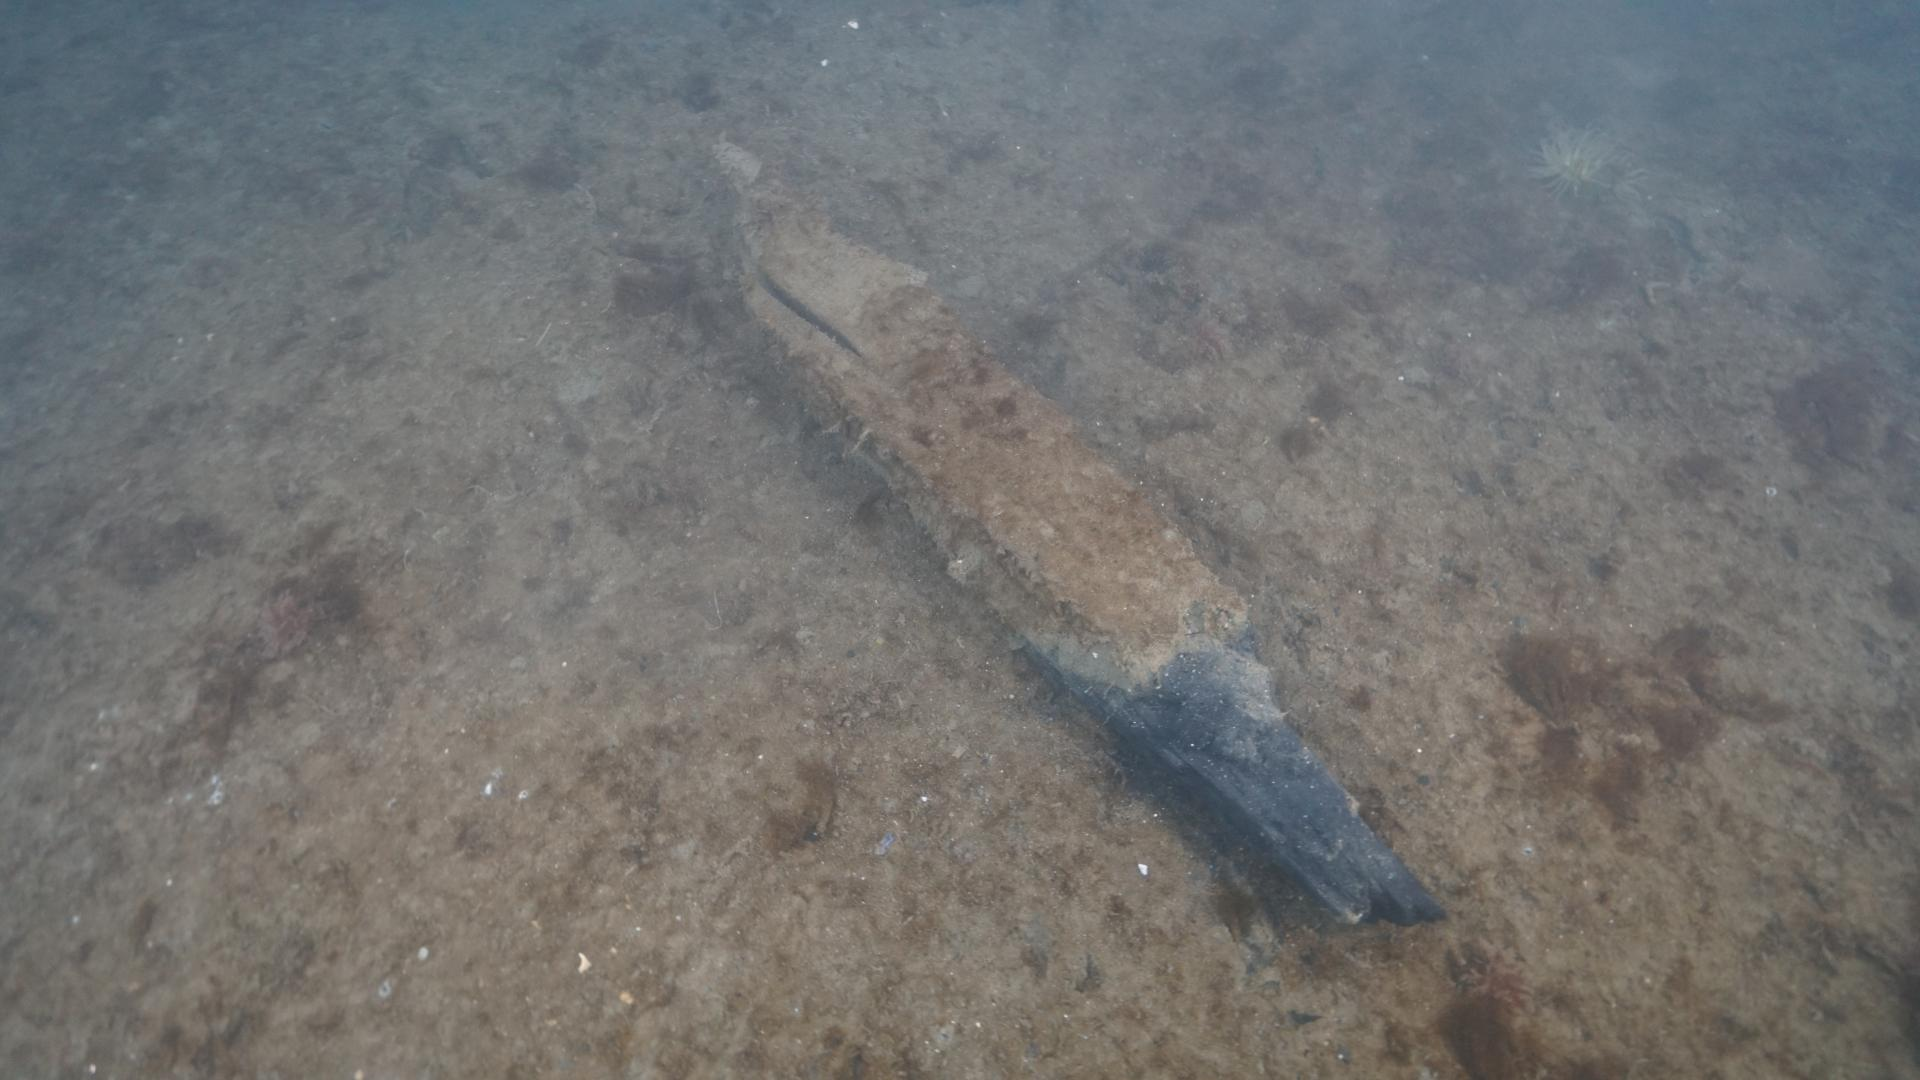wood: (682, 117, 1457, 945)
